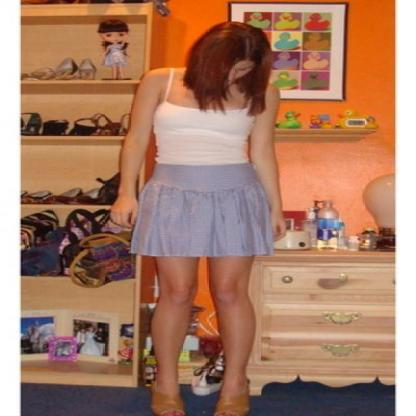shirt: (154, 101, 251, 165)
shoe: (152, 396, 247, 415)
skirt: (127, 162, 274, 266)
